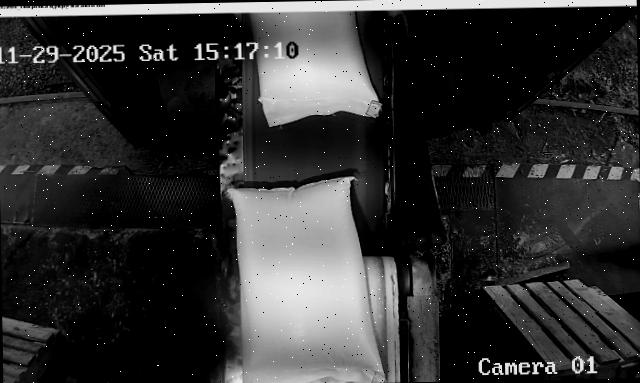bag: (226, 175, 384, 383), (252, 9, 382, 127)
